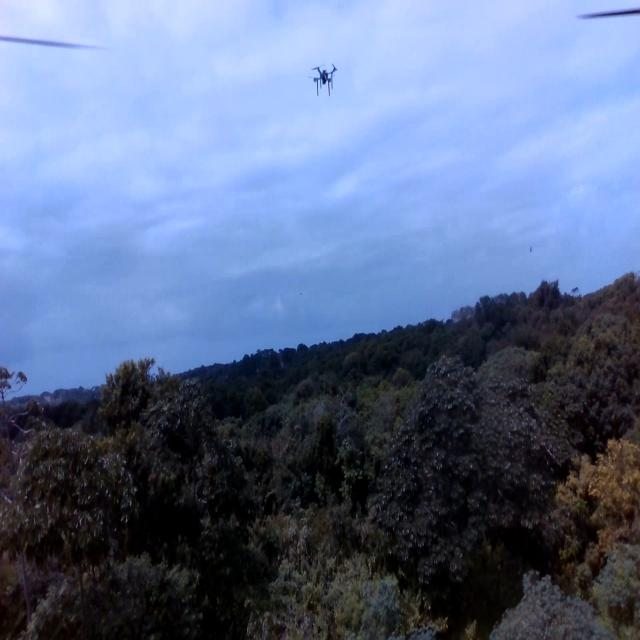-uav-: (308, 49, 349, 114)
